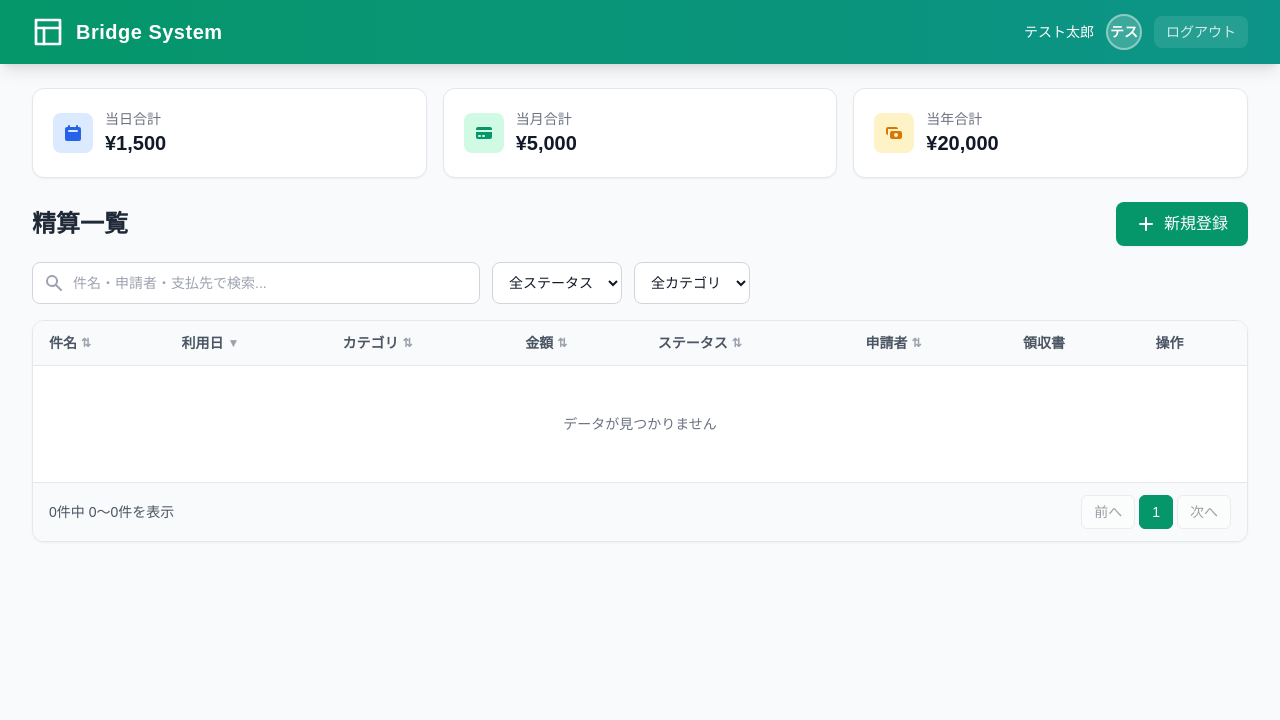
it: ExpenseList › 新規登録モーダル › 新規登録ボタンでモーダルが開く
Click the button "新規登録" at (1182, 224), box left=1116, top=202, right=1248, bottom=246
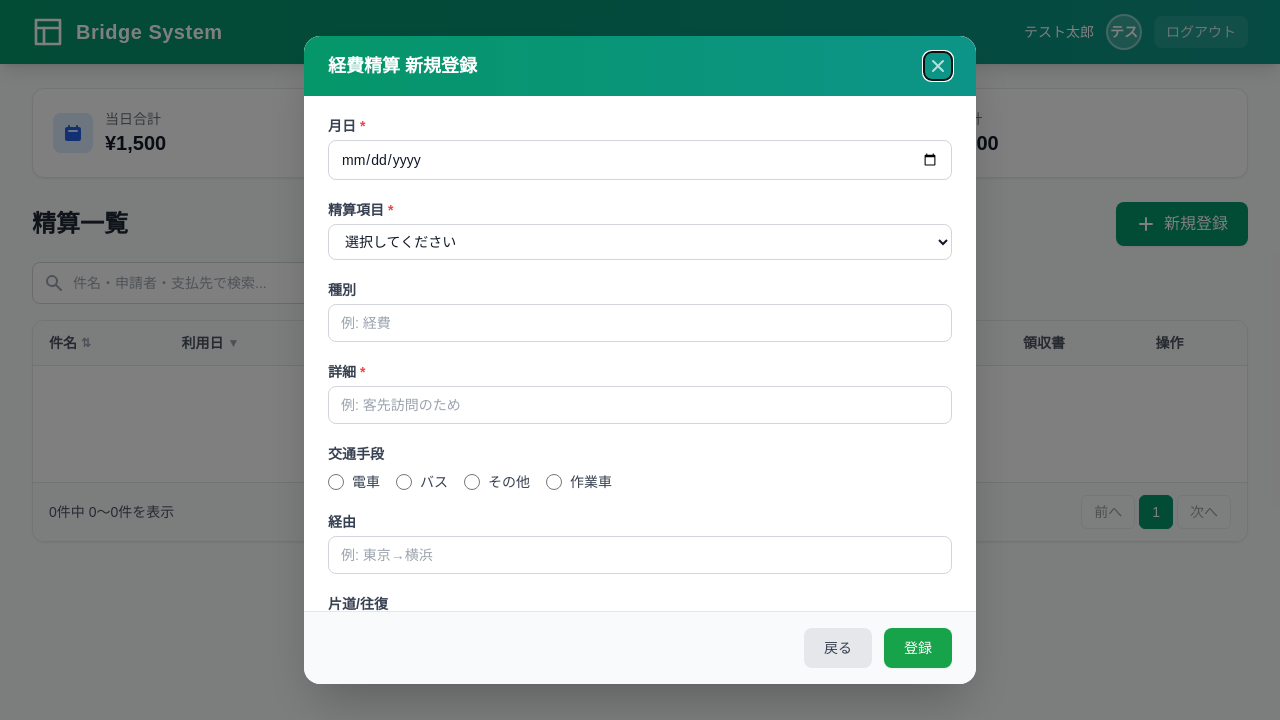
Check: the heading "経費精算 新規登録" is shown, box left=328, top=52, right=477, bottom=80
